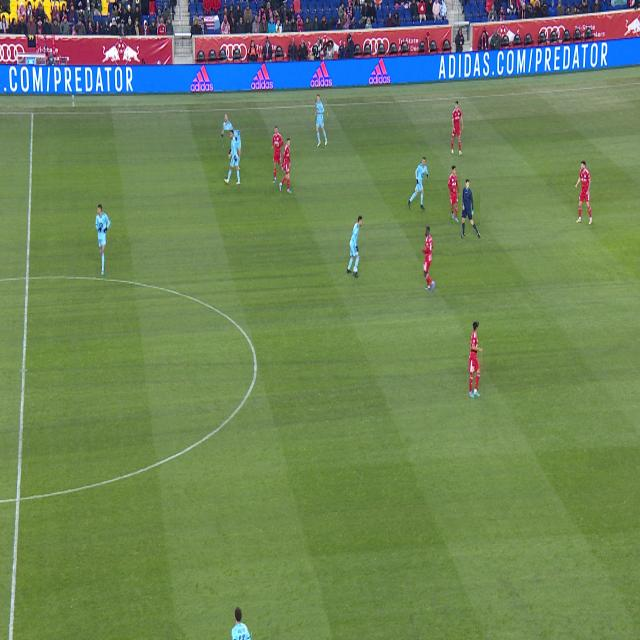football: (353, 266, 358, 274)
player: (575, 161, 592, 224), (469, 322, 483, 398), (408, 158, 428, 210), (96, 205, 110, 275), (224, 130, 241, 185), (347, 216, 362, 278), (421, 226, 435, 291), (221, 113, 234, 170), (271, 126, 284, 182), (279, 138, 292, 194), (448, 166, 460, 222), (451, 101, 463, 157), (232, 608, 251, 639), (316, 94, 327, 147), (283, 163, 285, 173), (234, 146, 236, 155)
referee: (461, 180, 480, 238)
